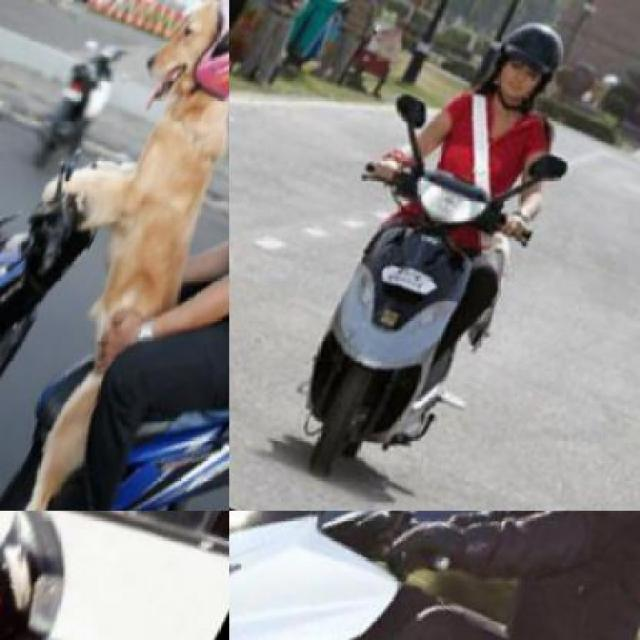With Helmet: (488, 13, 578, 102)
